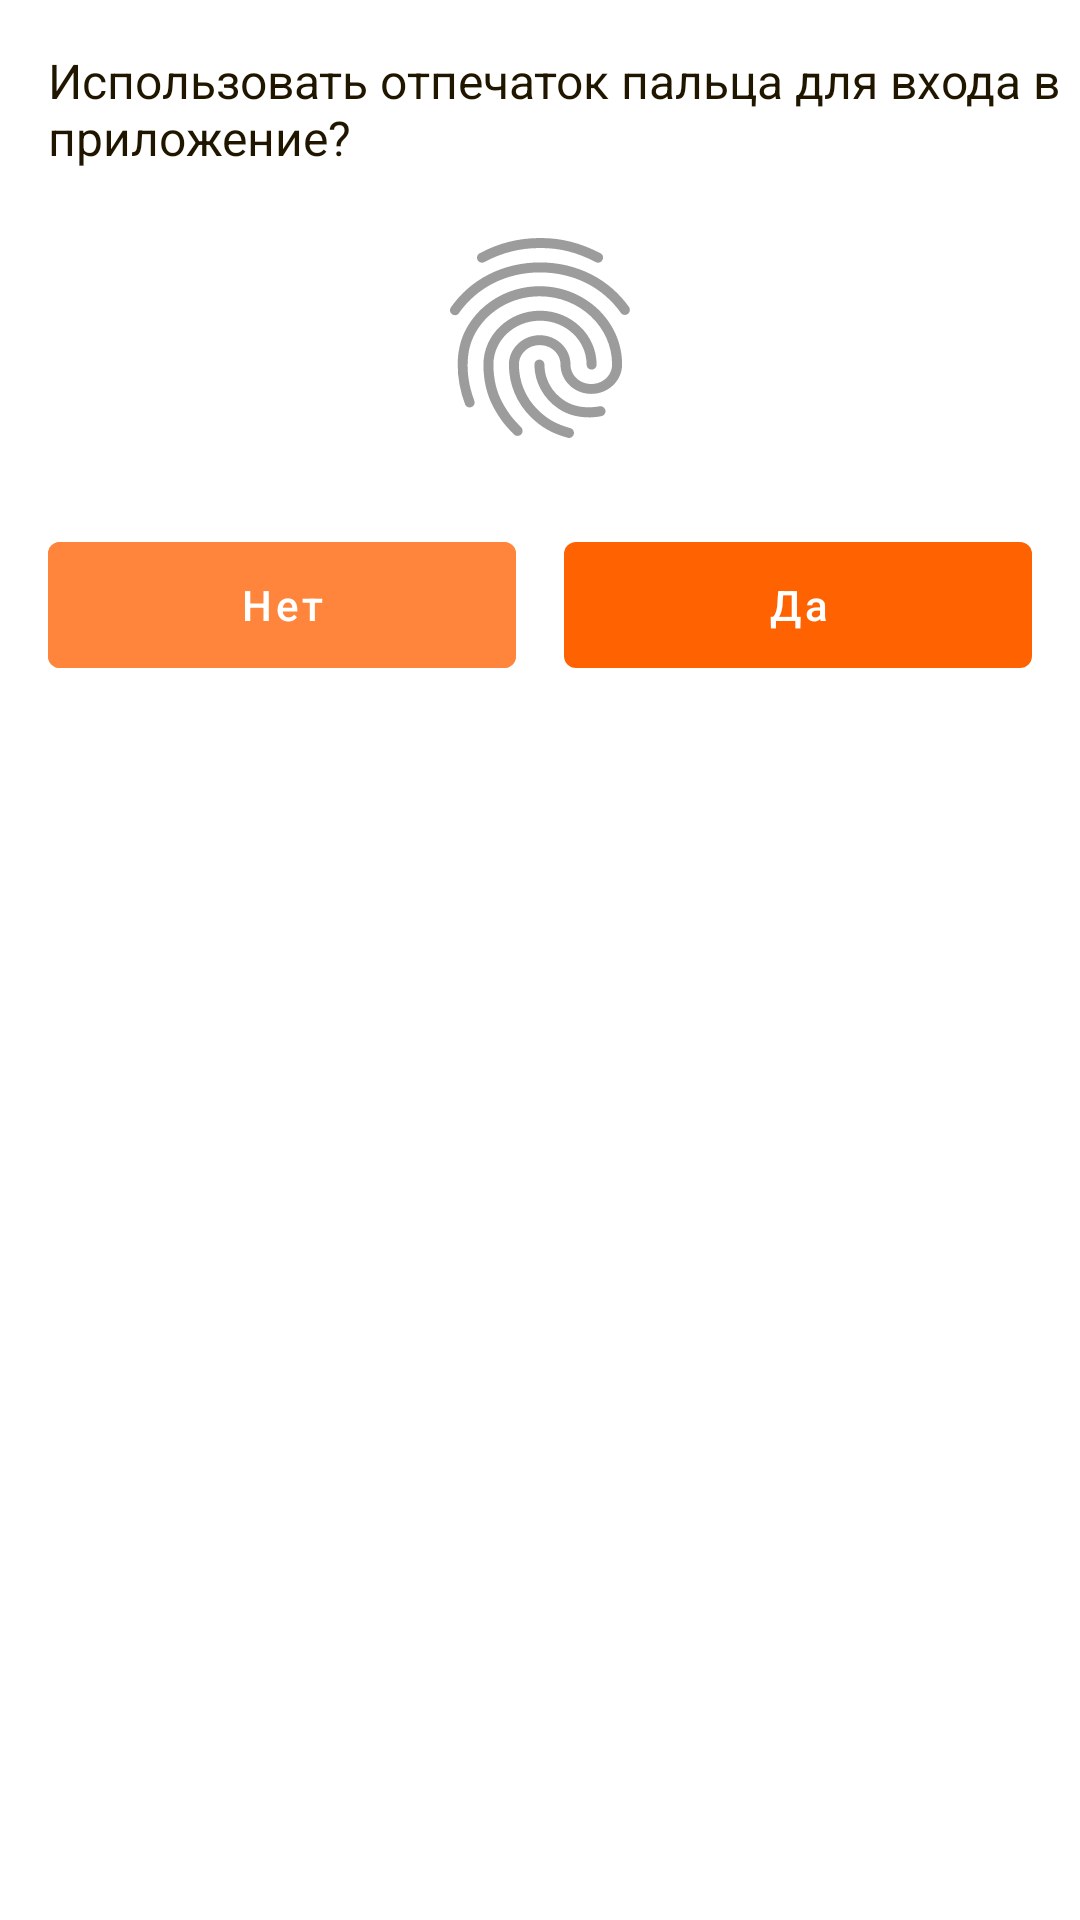

Screen size 1080 × 1920. Icon name, then its box in pixels as (x1, y1, x2, y2):
fingerprint: (450, 238, 630, 438)
